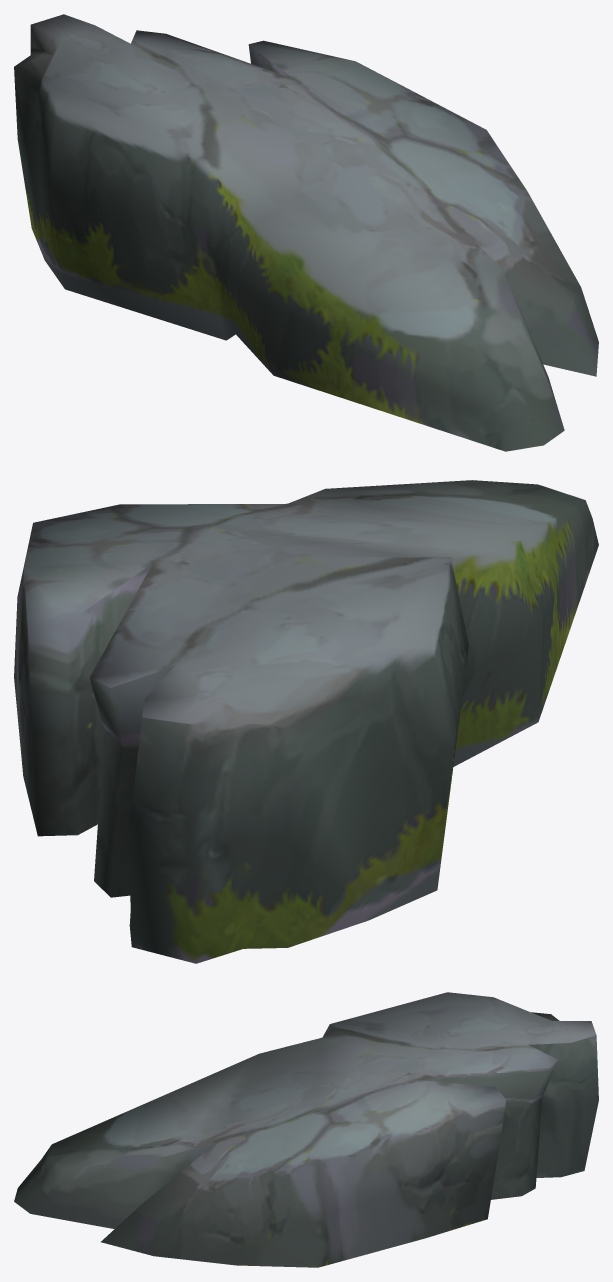
File: yewai_shitou_01.FBX
3 views of the same model, one above another, from view 1: azimuth 30°, elevation 25°; view 2: azimuth 150°, elevation 25°; view 3: azimuth 270°, elevation 25° (orthographic). The views are drawn at different scales.
Parts seen in each view (by area): view 1: yewai_shitou_01; view 2: yewai_shitou_01; view 3: yewai_shitou_01.
Boxes of the visible parts, left/top/right/bottom form: yewai_shitou_01: left=14, top=14, right=598, bottom=451; yewai_shitou_01: left=14, top=480, right=598, bottom=963; yewai_shitou_01: left=14, top=992, right=598, bottom=1267.
Bounding box in the file's own units: 205 × 94.43 × 352.
